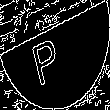P_N: (37, 25, 73, 85)
